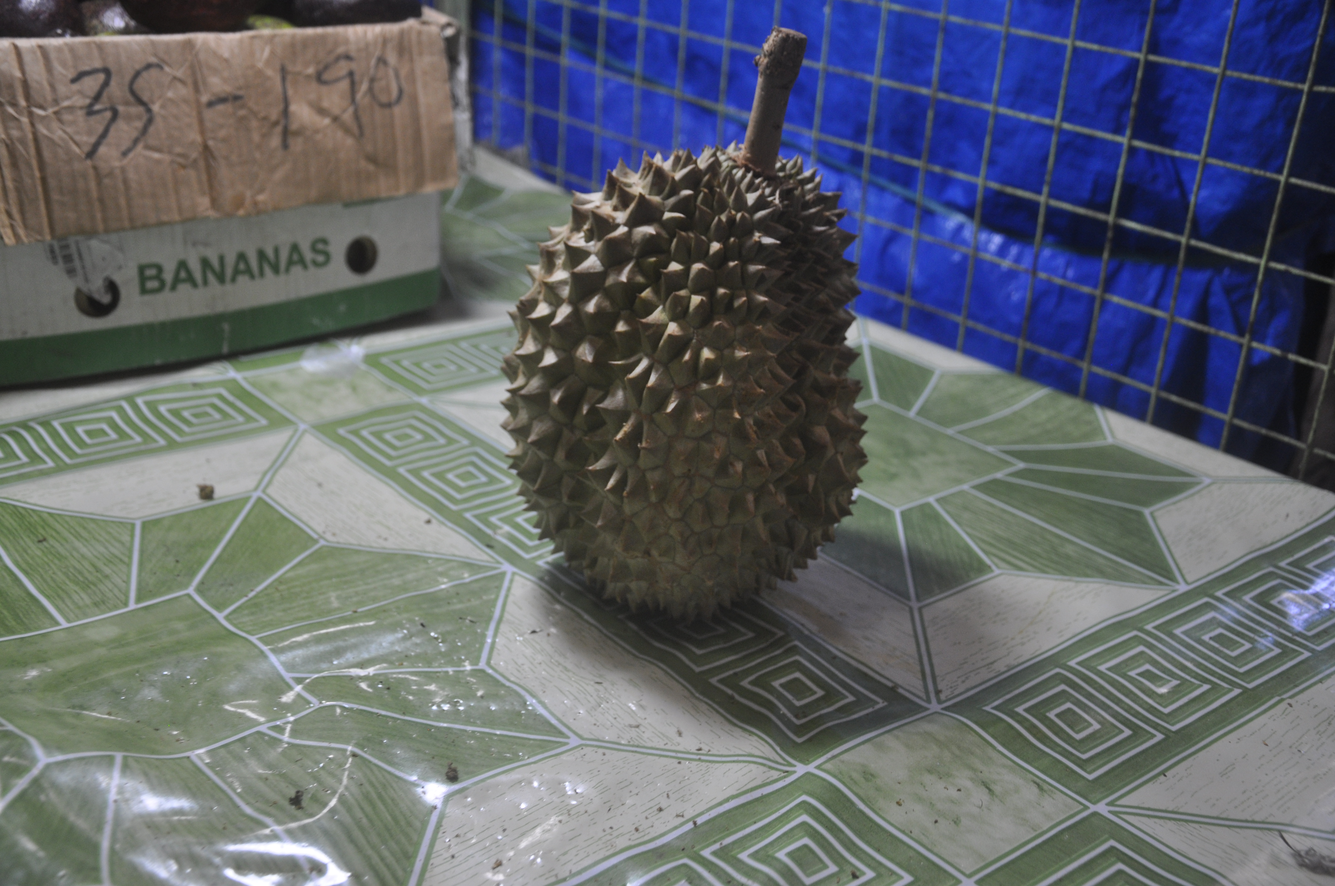mature: (503, 28, 866, 618)
